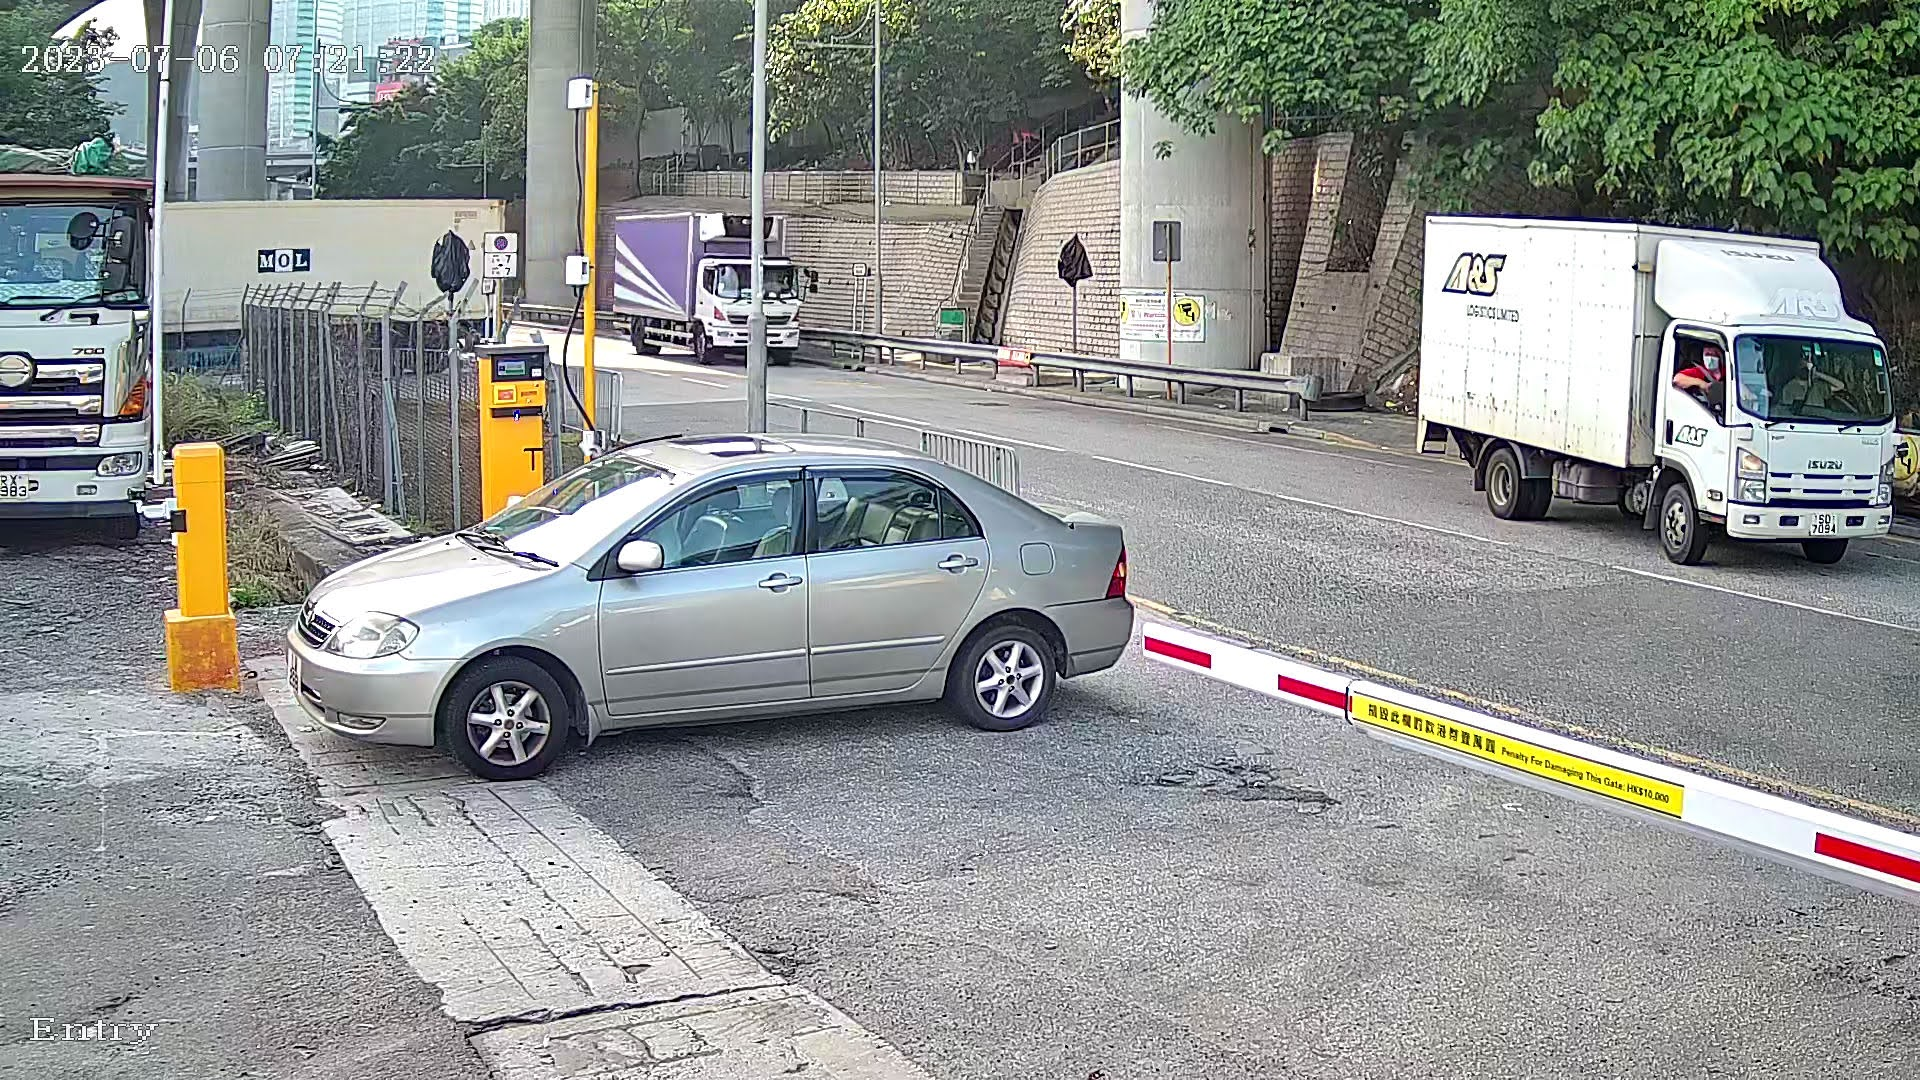privatecar: (231, 404, 1207, 799)
